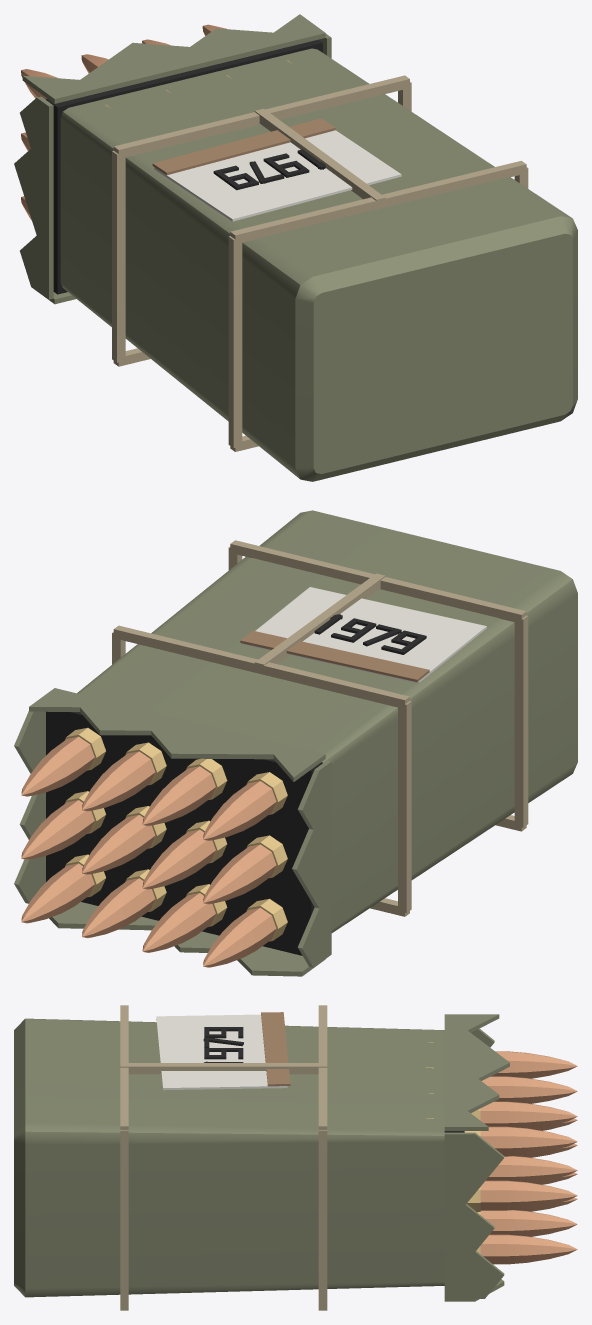
Rendered from ammo_545_surplus.glb.
The picture shows the model from 3 angles, top to bottom: view 1: azimuth 30°, elevation 25°; view 2: azimuth 150°, elevation 25°; view 3: azimuth 270°, elevation 25°; orthographic projection. The views are drawn at different scales.
Parts seen in each view (by area): view 1: body; view 2: body; view 3: body.
Boxes of the visible parts, box(x1,y1,x2,y2) form: body: box(14, 14, 577, 481); body: box(14, 510, 577, 976); body: box(14, 1005, 577, 1310).
Bounding box in the file's own units: 0.0511 × 0.0361 × 0.0995.
